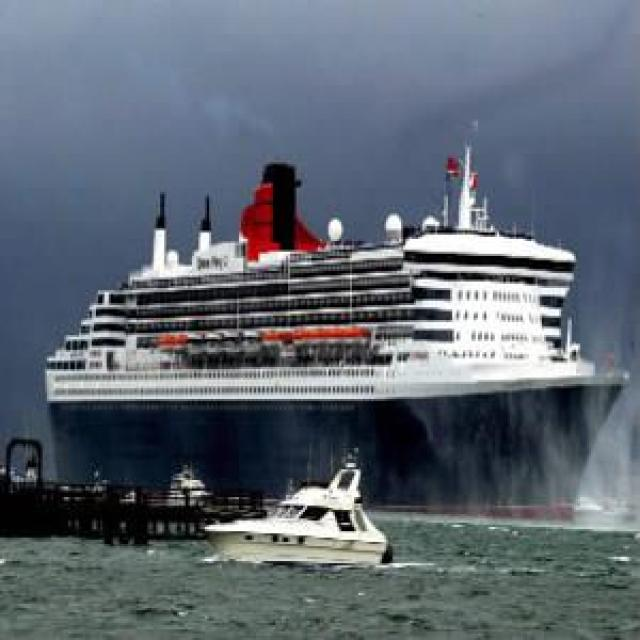houseboat: (194, 454, 380, 563)
passenger ship: (36, 153, 616, 514)
